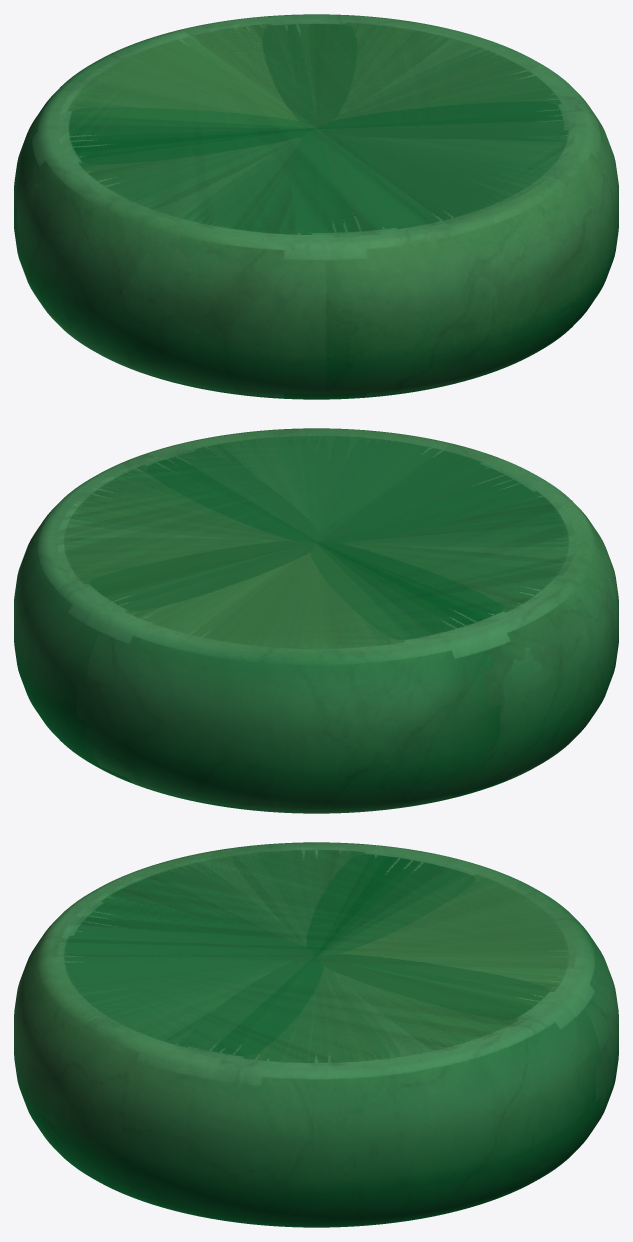
Rendered from jade_ring.fbx.
3 renders of one model, top to bottom at view 1: azimuth 30°, elevation 25°; view 2: azimuth 150°, elevation 25°; view 3: azimuth 270°, elevation 25°, orthographic.
Parts seen in each view (by area): view 1: SCP - 714; view 2: SCP - 714; view 3: SCP - 714.
Part boxes in pixels (<box>): SCP - 714: <box>14,14,618,399</box>; SCP - 714: <box>14,428,618,813</box>; SCP - 714: <box>14,842,618,1227</box>.
Size of the model in its own units: 167 by 47.83 by 167.
